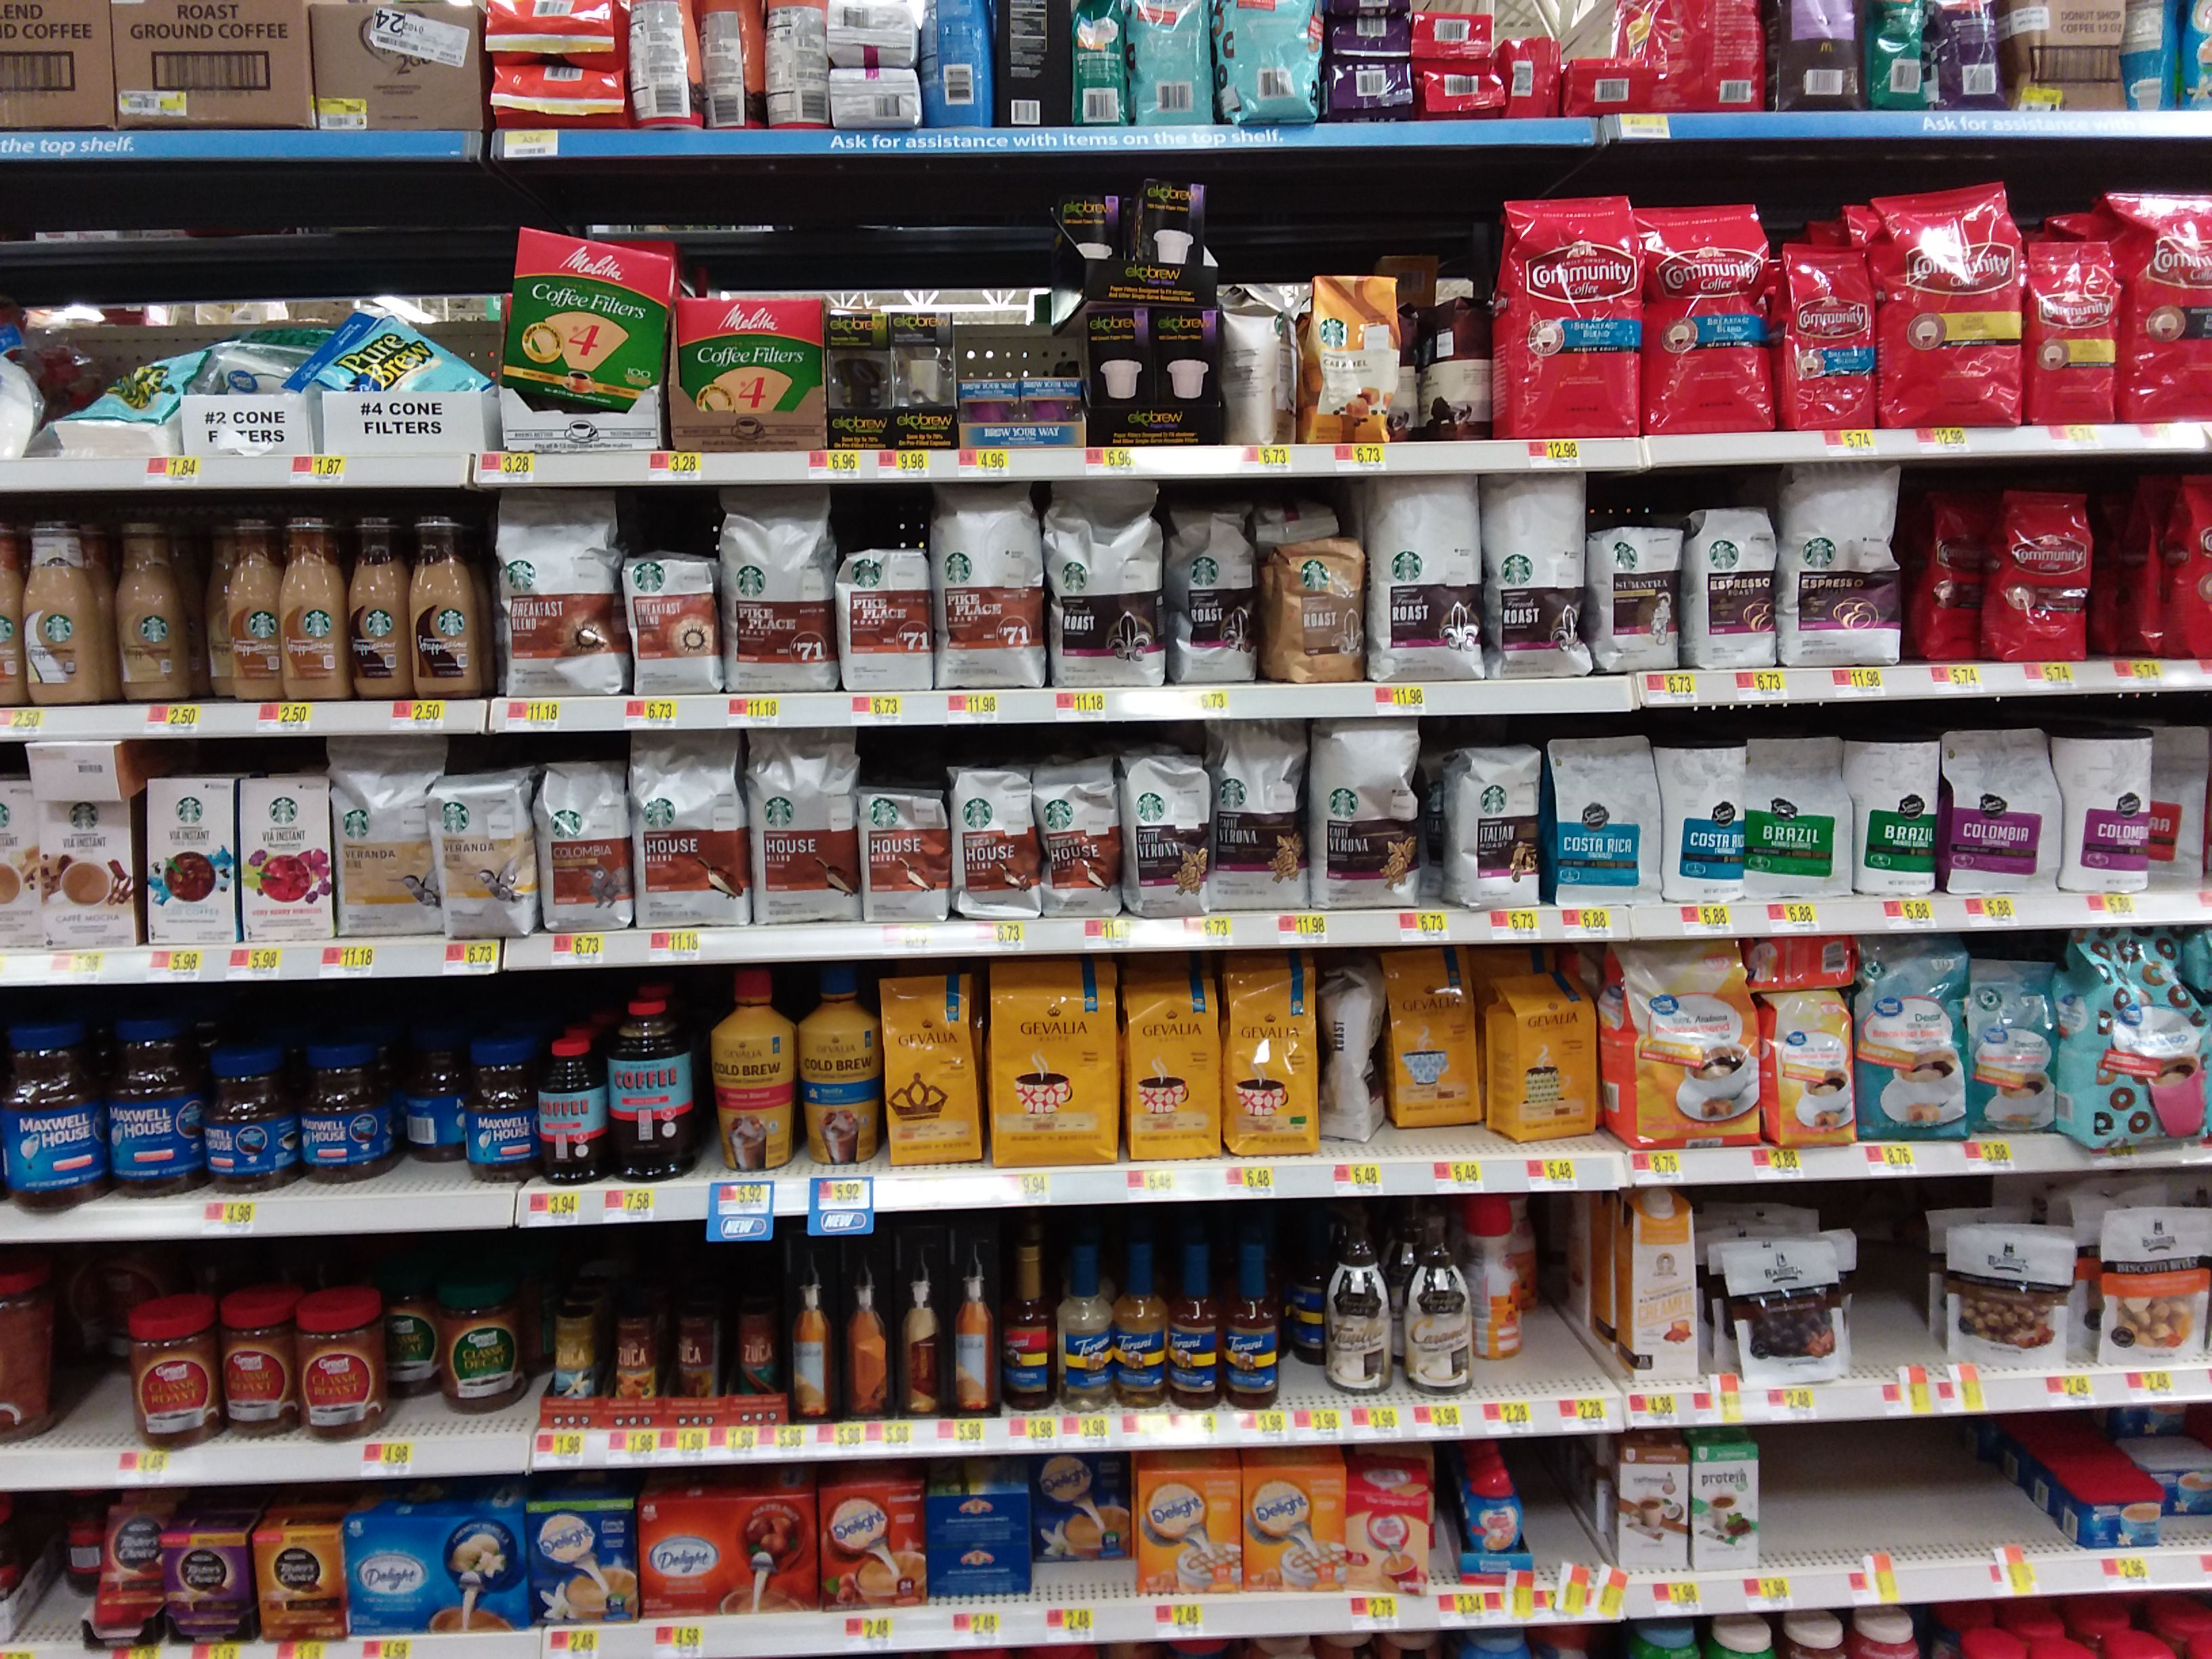Misplacement: (1029, 1450, 1136, 1607)
Out-of-stock: (1763, 1425, 1961, 1570)
